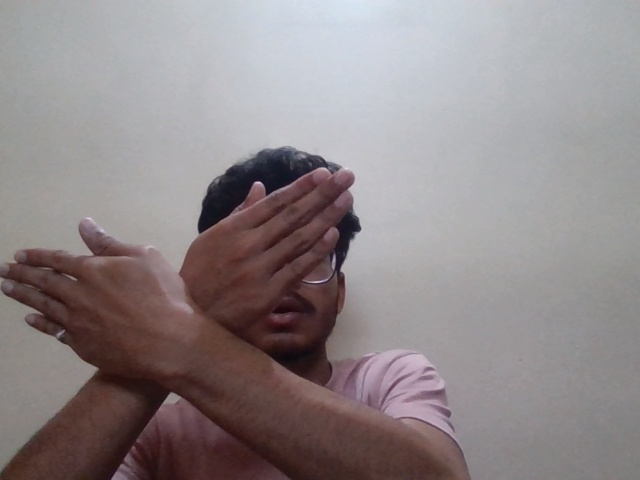feel: (1, 157, 379, 427)
